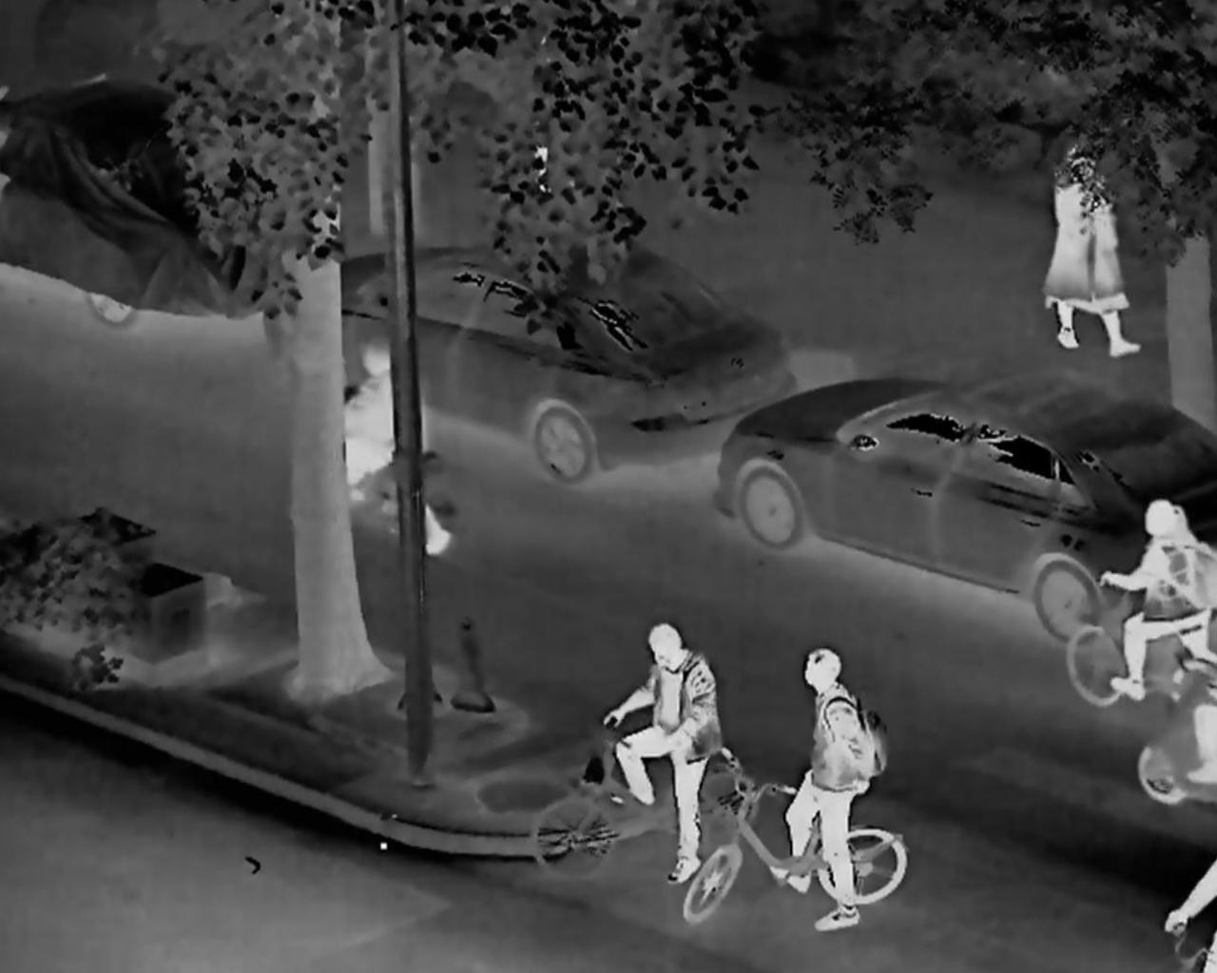person: (595, 610, 727, 884), (771, 646, 882, 927), (344, 330, 450, 551), (1040, 135, 1139, 367), (1112, 486, 1217, 696)
